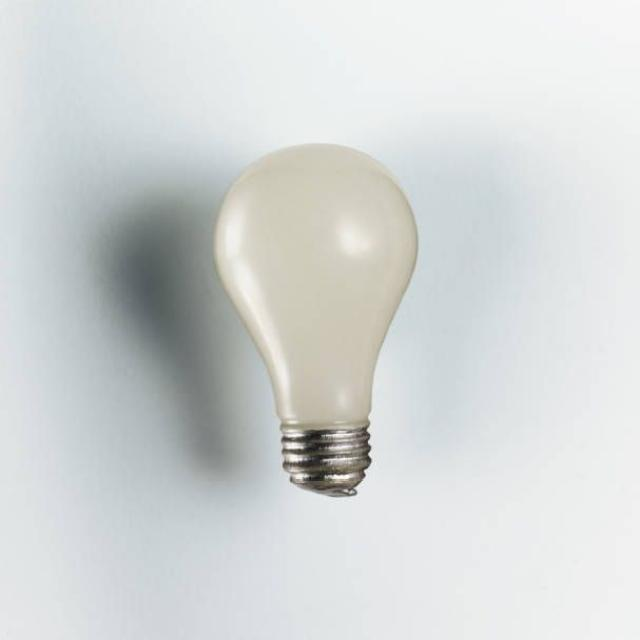electronic: (211, 141, 418, 497)
